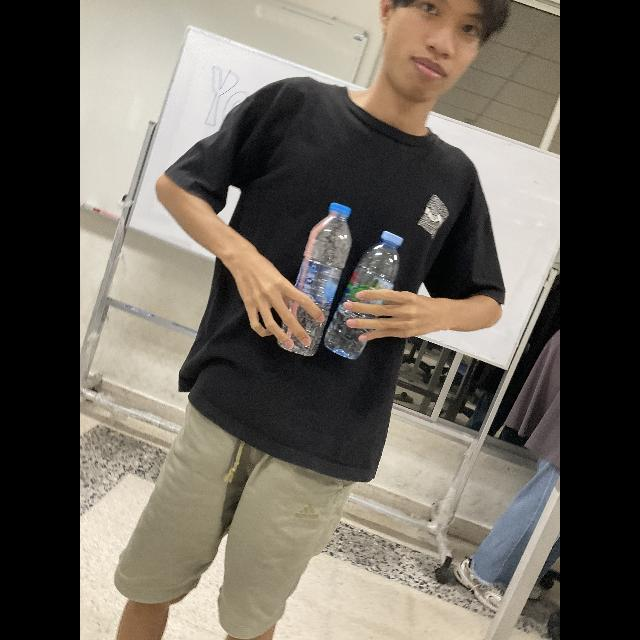plastic_bottle: (280, 200, 350, 358), (324, 230, 402, 360)
plastic_bottle_cap: (329, 202, 351, 218), (381, 232, 403, 246)
